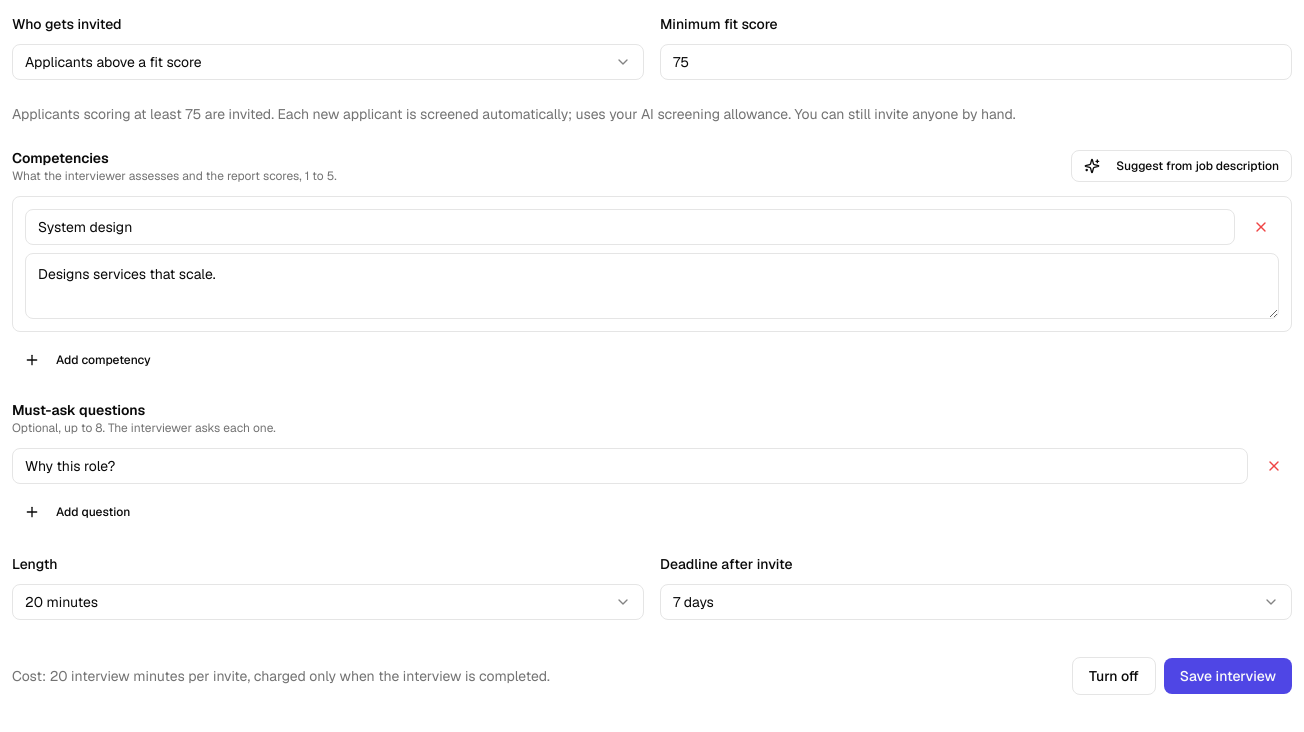
Test case: InterviewConfigSection (SIT-060) › fills the draft from Suggest
The image size is (1304, 732).
Click the button "Suggest from job description". click: x=1182, y=166
box: [1071, 150, 1292, 182]
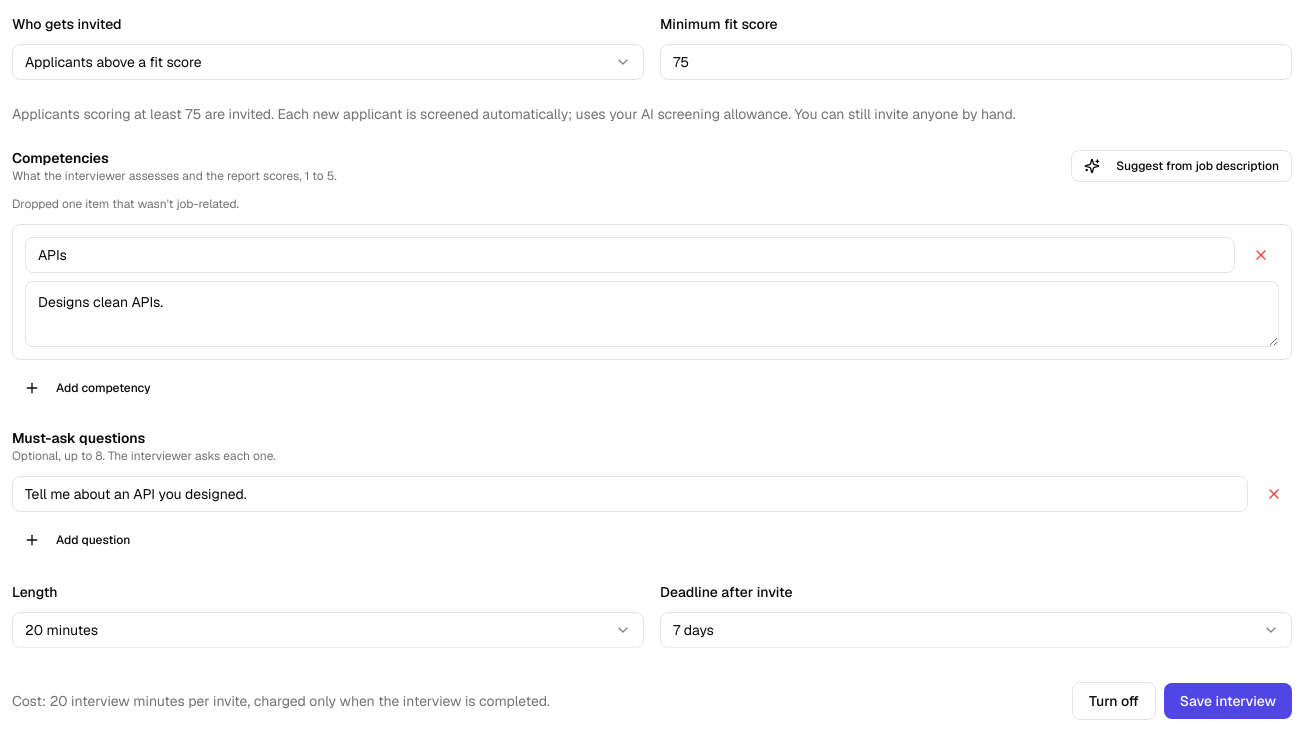
Result: the field showing "APIs" is shown at [25, 237, 1235, 273]
Result: the field named "Question 1" holds "Tell me about an API you designed." at [12, 476, 1248, 512]
Result: the list item "Dropped one item that wasn't job-related." is shown at [12, 196, 239, 212]
